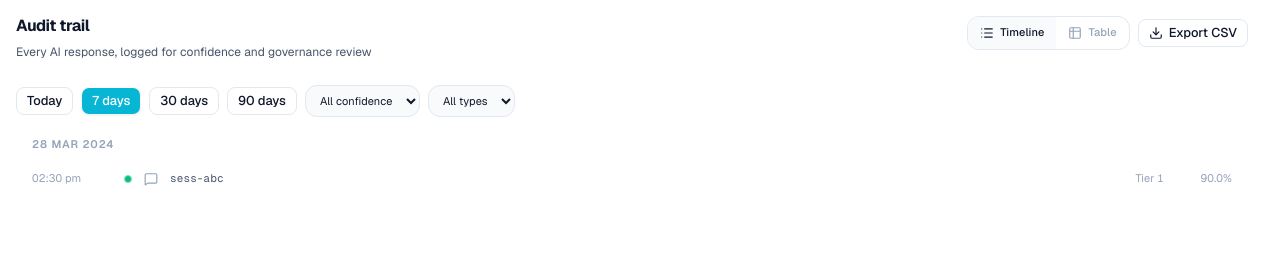
Test case: AuditTrailPage › switches back to the timeline view from the table view
Click the button "Table": (1093, 33) [1056, 17, 1129, 49]
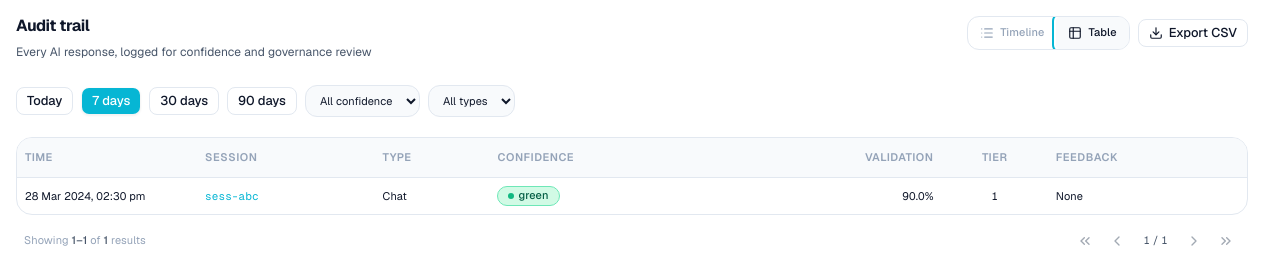
Now the column heading "Session" is shown, box [197, 138, 375, 178]
Click the button "Timeline": (1012, 33) [968, 17, 1056, 49]
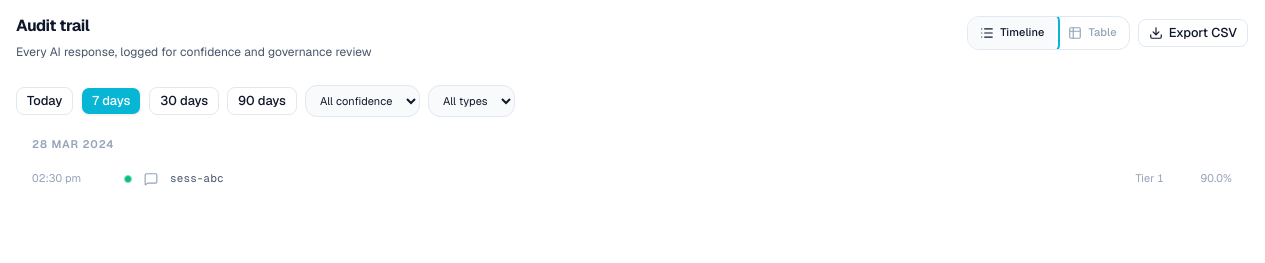
Now the column heading "Session" is gone
